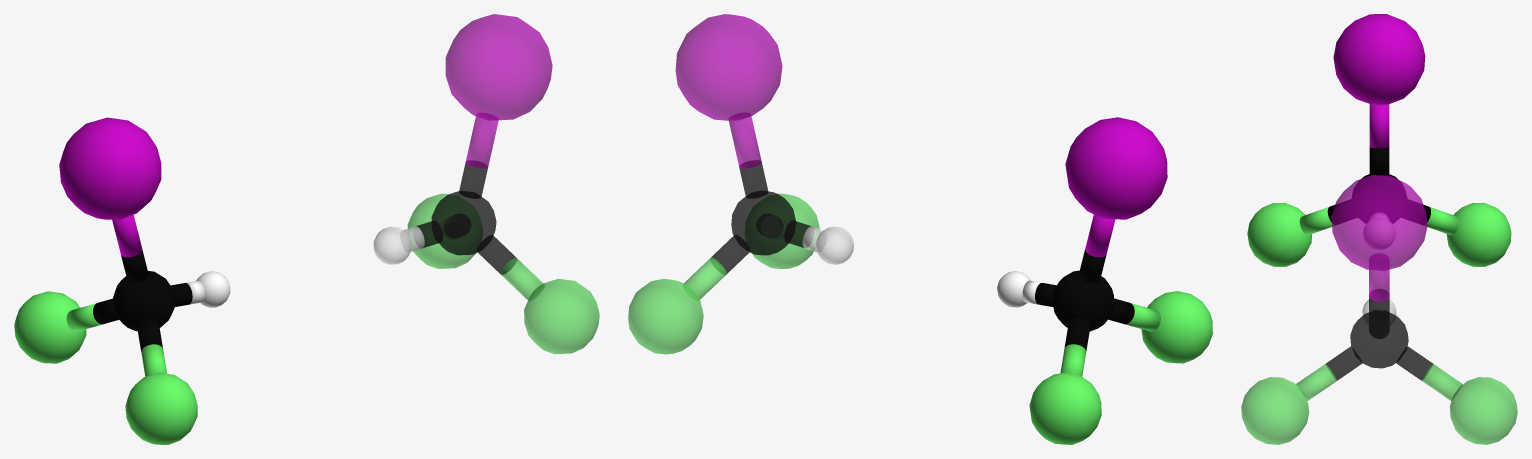
3 renders of one model, left to right at view 1: azimuth 30°, elevation 25°; view 2: azimuth 150°, elevation 25°; view 3: azimuth 270°, elevation 25°, orthographic. The views are drawn at different scales.
Parts seen in each view (by area): view 1: subnode_0_1, subnode_0.002_0; view 2: subnode_0_1, subnode_0.002_0; view 3: subnode_0.002_0, subnode_0_1.
Boxes of the visible parts, left/top/right/bottom form: subnode_0_1: left=14, top=117, right=230, bottom=444; subnode_0.002_0: left=373, top=14, right=599, bottom=354; subnode_0_1: left=997, top=117, right=1212, bottom=444; subnode_0.002_0: left=628, top=14, right=853, bottom=354; subnode_0.002_0: left=1241, top=175, right=1517, bottom=444; subnode_0_1: left=1247, top=14, right=1511, bottom=266.
Bounding box in the file's own units: 7.5 × 4.34 × 4.18.
